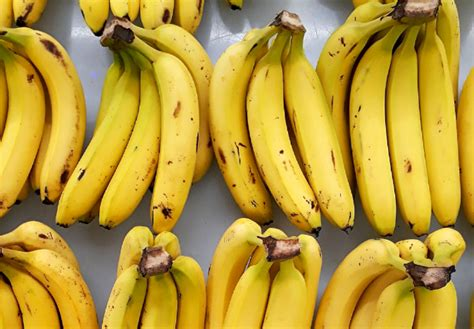banana: (247, 47, 326, 239), (282, 46, 359, 236), (205, 40, 277, 228), (18, 25, 90, 208), (142, 45, 200, 239), (349, 28, 400, 240)
